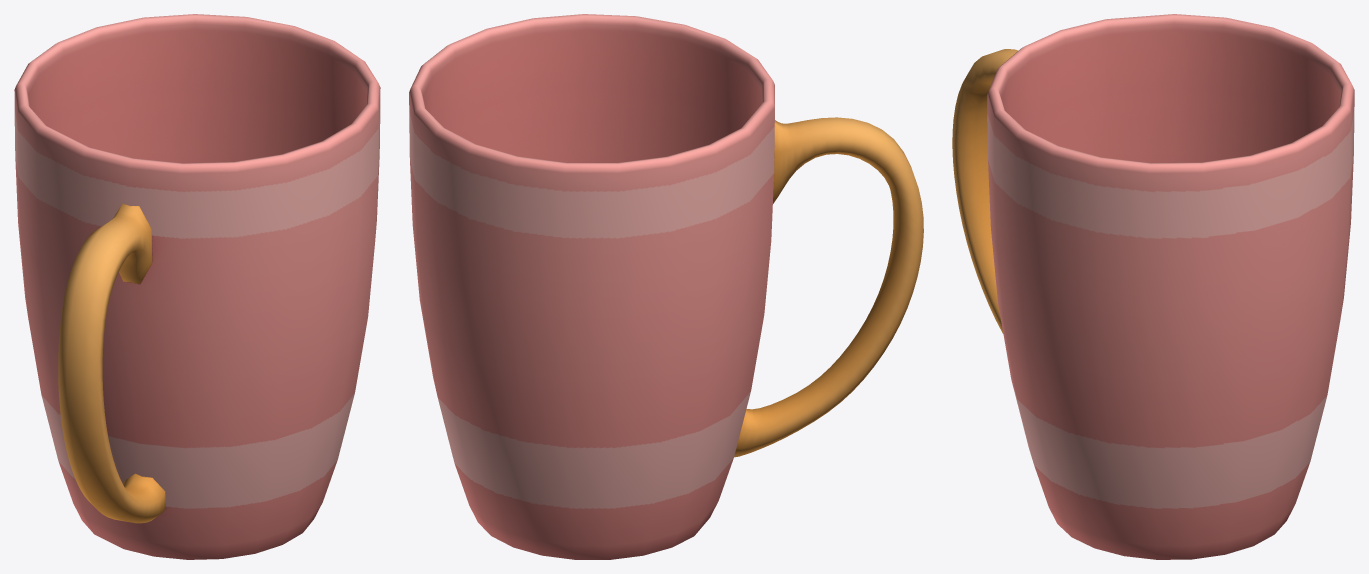
The model's file is coc2.fbx.
3 views of the same model, side by side, from view 1: azimuth 30°, elevation 25°; view 2: azimuth 150°, elevation 25°; view 3: azimuth 270°, elevation 25° (orthographic).
Visible parts, largest first — view 1: cup4; view 2: cup4; view 3: cup4.
Boxes of the visible parts, <box> form: cup4: <box>14,14,380,559</box>; cup4: <box>409,14,923,559</box>; cup4: <box>952,14,1354,559</box>.
Size of the model in its own units: 77.57 by 80.34 by 69.22.
Materials: 1 (1 with a texture image).
